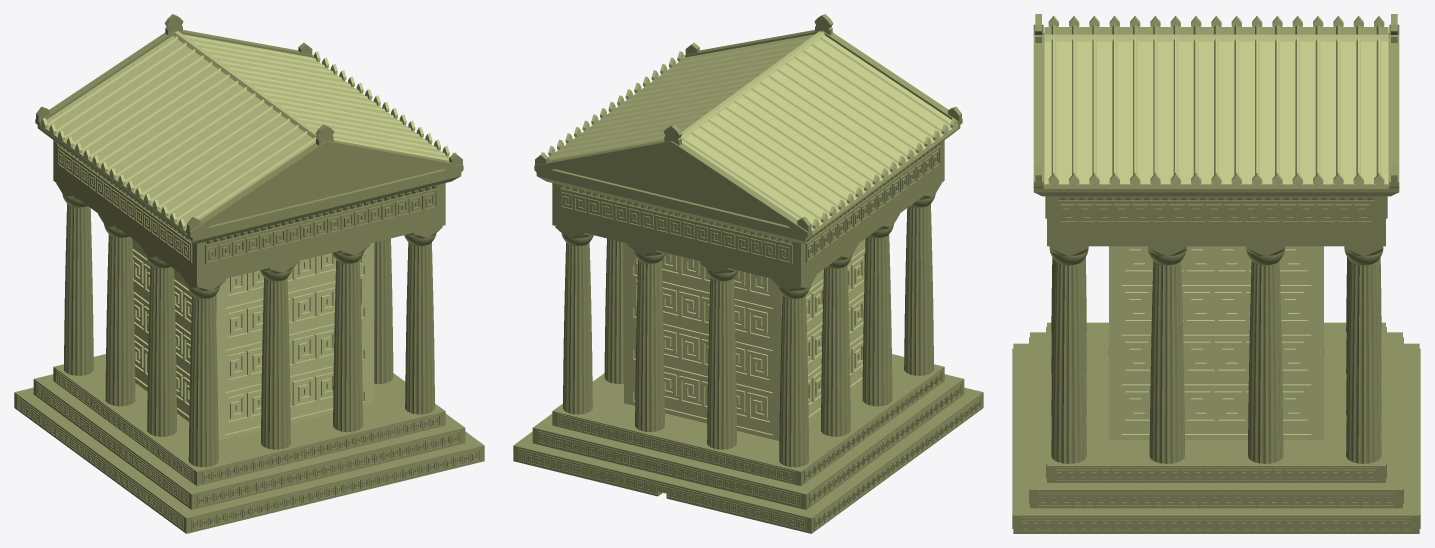
Rendered from H94-web.glb.
3 renders of one model, left to right at view 1: azimuth 30°, elevation 25°; view 2: azimuth 150°, elevation 25°; view 3: azimuth 270°, elevation 25°, orthographic. The views are drawn at different scales.
Visible parts, largest first — view 1: H94-base, H94-roof, H94-entablature, H94-wall; view 2: H94-base, H94-roof, H94-entablature, H94-wall; view 3: H94-base, H94-roof, H94-wall, H94-entablature.
Part boxes in pixels (box(x1,y1,x2,y2)): H94-base: box(14, 183, 484, 533); H94-roof: box(39, 31, 456, 234); H94-entablature: box(35, 14, 463, 285); H94-wall: box(132, 239, 373, 440); H94-base: box(513, 183, 983, 533); H94-roof: box(541, 31, 958, 234); H94-entablature: box(534, 14, 962, 285); H94-wall: box(624, 239, 865, 440); H94-base: box(1012, 246, 1420, 533); H94-roof: box(1044, 16, 1388, 188); H94-wall: box(1109, 246, 1323, 439); H94-entablature: box(1033, 14, 1399, 246).
Bounding box in the file's own units: 0.2412 × 0.28 × 0.2412.
